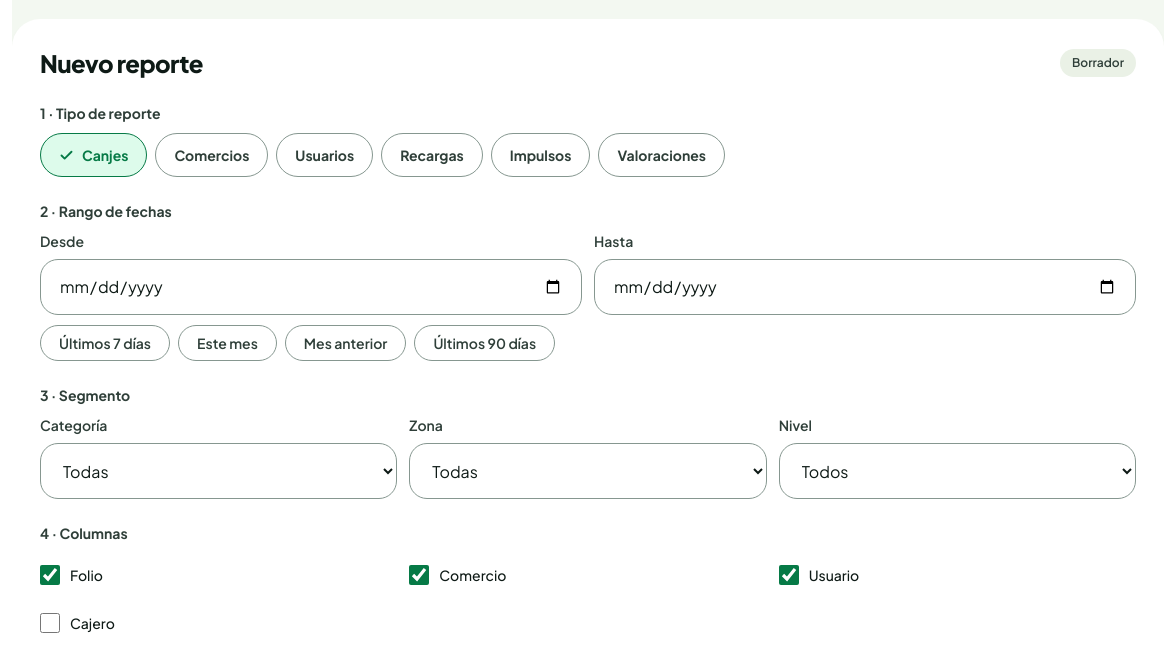
Test: B14 · pantalla › sin columnas no genera y pide elegir al menos una
The width and height of the screenshot is (1176, 649).
Step 1. Click the checkbox labelled "Folio" → (50, 575), box [40,565,60,585]
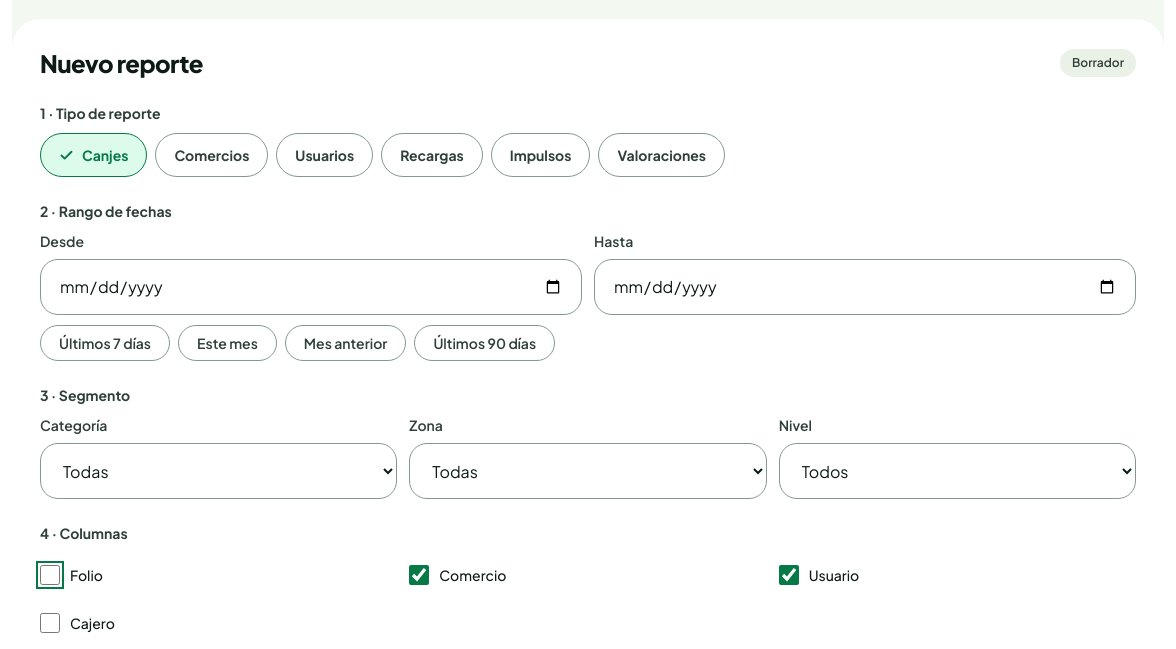
Step 2. Click the checkbox labelled "Comercio" → (419, 575), box [409,565,429,585]
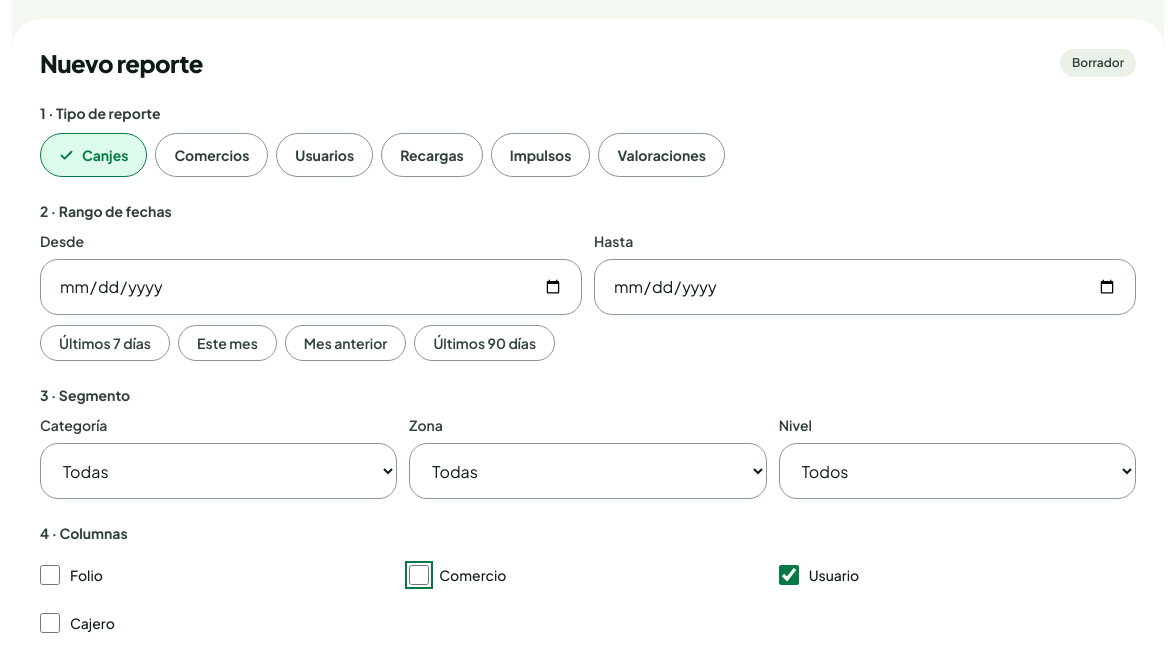
Step 3. Click the checkbox labelled "Usuario" → (789, 575), box [779,565,799,585]
(page scrolled)
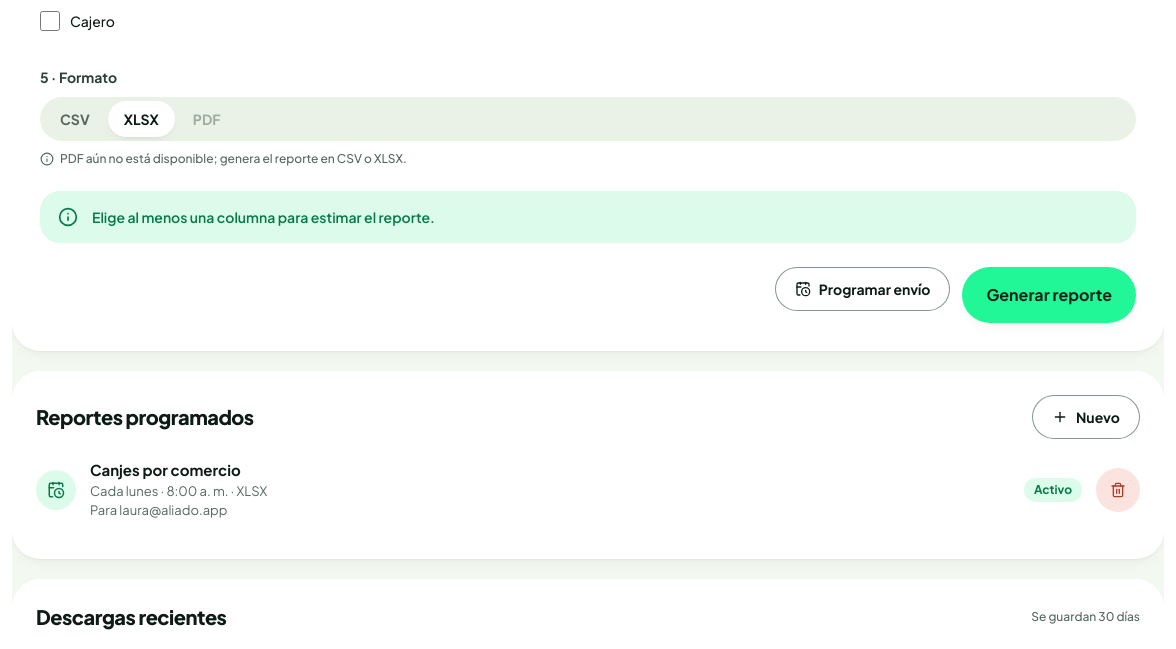
Step 4. Click the button "Generar reporte" → (1049, 295), box [962,267,1136,323]
(page scrolled)
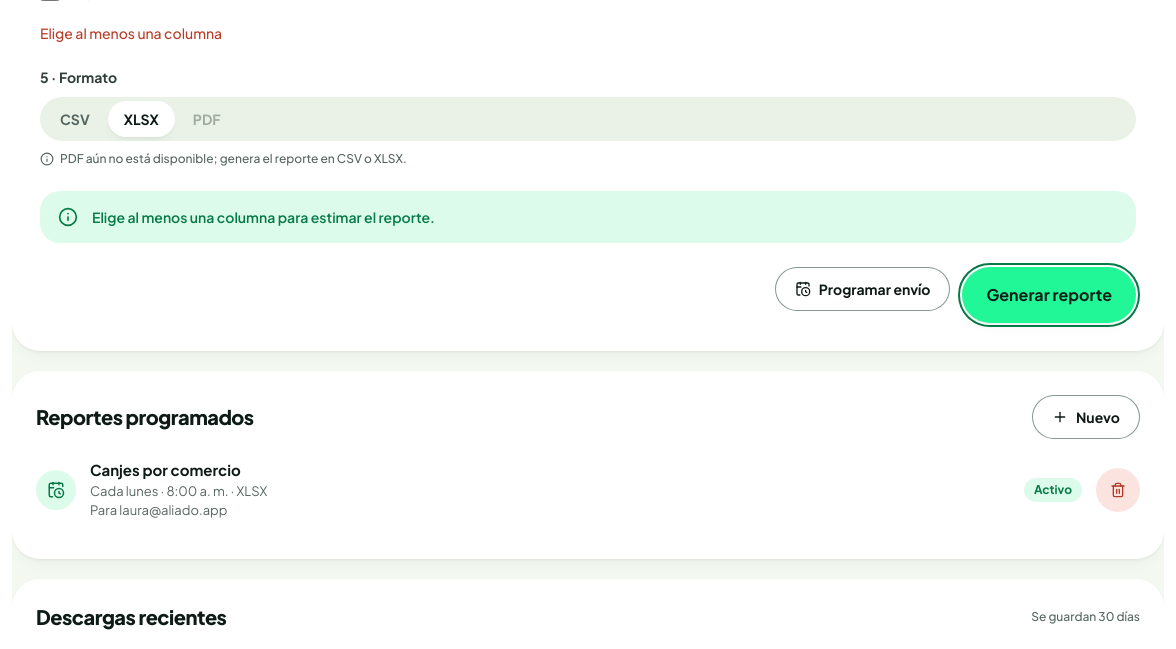
Result: the text "Elige al menos una columna" is shown at [40,24,222,42]
